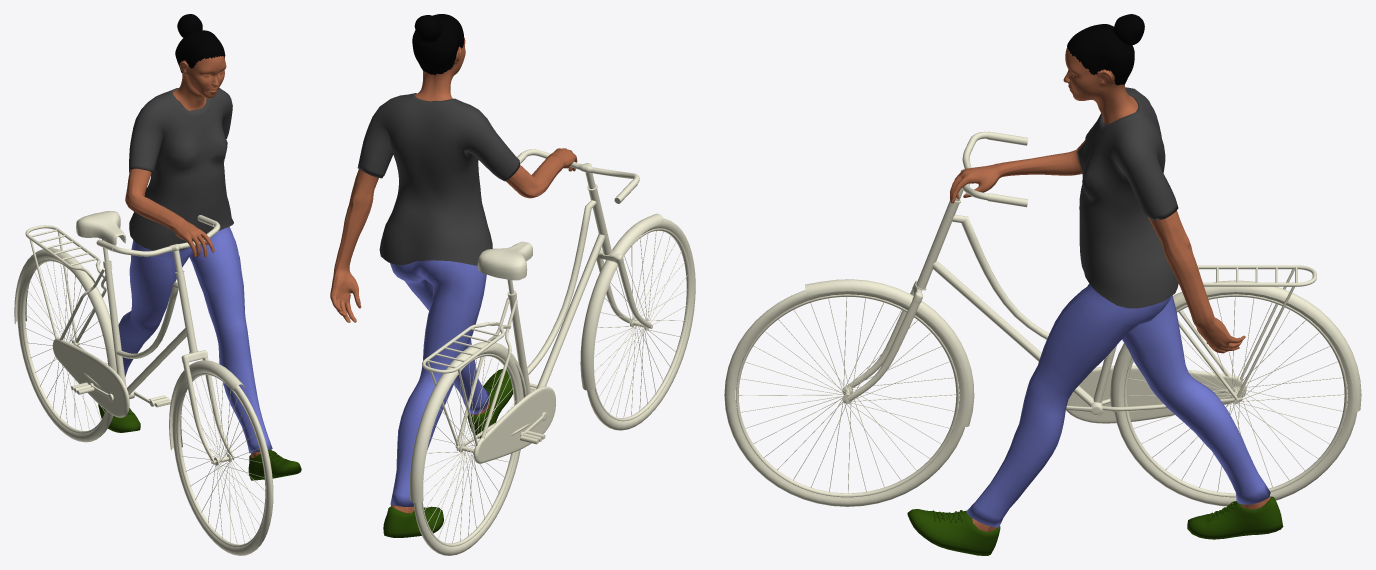
The model's file is Woman_11_Walking-transformed.glb.
The picture shows the model from 3 angles, left to right: view 1: azimuth 30°, elevation 25°; view 2: azimuth 150°, elevation 25°; view 3: azimuth 270°, elevation 25°; orthographic projection. The views are drawn at different scales.
Parts seen in each view (by area): view 1: Bike.001, Tops.002, Bottoms.002, Body.002, Hair.002, Shoes.002; view 2: Bike.001, Tops.002, Bottoms.002, Body.002, Hair.002, Shoes.002; view 3: Bike.001, Bottoms.002, Tops.002, Body.002, Shoes.002, Hair.002.
Part boxes in pixels (x1,y1,x2,y2): Bike.001: (14, 211, 273, 555); Tops.002: (129, 88, 233, 250); Bottoms.002: (118, 227, 272, 453); Body.002: (125, 56, 260, 457); Hair.002: (175, 14, 225, 72); Shoes.002: (98, 404, 301, 480); Bike.001: (409, 149, 695, 555); Tops.002: (357, 93, 519, 265); Bottoms.002: (390, 260, 489, 506); Body.002: (330, 38, 577, 513); Hair.002: (412, 14, 464, 75); Shoes.002: (383, 369, 513, 537); Bike.001: (724, 131, 1361, 506); Bottoms.002: (966, 283, 1270, 527); Tops.002: (1077, 87, 1178, 308); Body.002: (950, 47, 1270, 531); Shoes.002: (907, 496, 1283, 555); Hair.002: (1067, 14, 1144, 85).
Size of the model in its own units: 0.7909 by 1.74 by 1.86.
